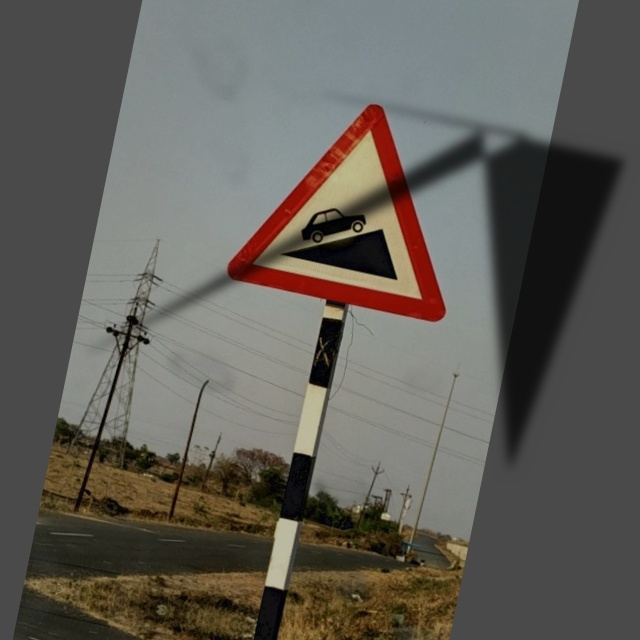Steep_Ascent: (228, 80, 478, 327)
